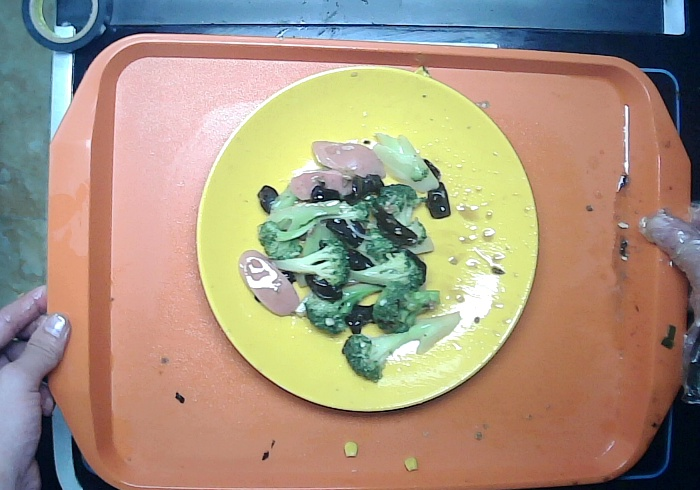HZYJPL-Huang_Se_Yuan_Pan: (193, 63, 541, 414)
